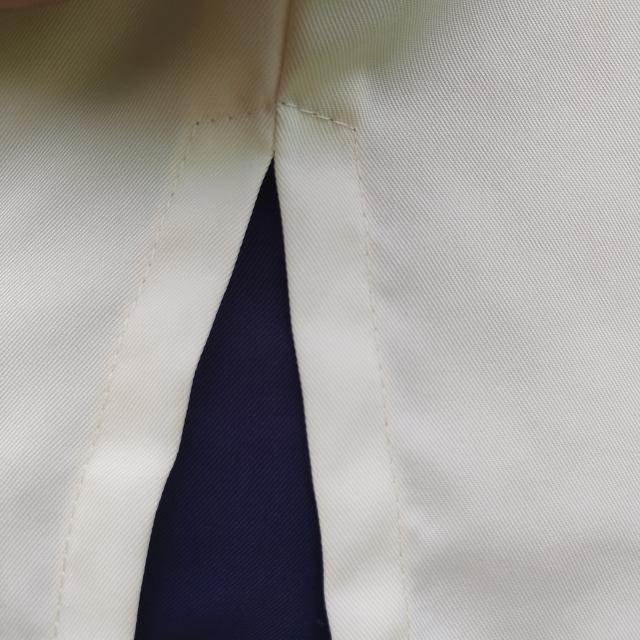education_male_uniform: (17, 8, 572, 640)
